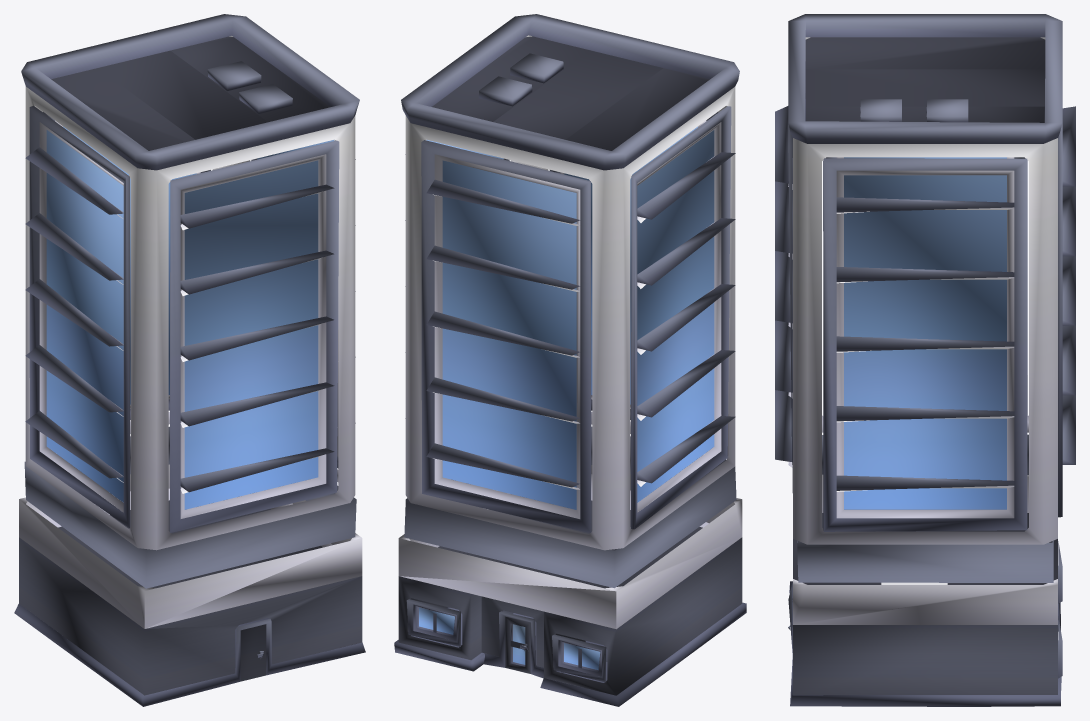
File: tower-sky-a-medium.glb
3 renders of one model, left to right at view 1: azimuth 30°, elevation 25°; view 2: azimuth 150°, elevation 25°; view 3: azimuth 270°, elevation 25°, orthographic. The views are drawn at different scales.
Parts seen in each view (by area): view 1: building-skyscraper-a baked; view 2: building-skyscraper-a baked; view 3: building-skyscraper-a baked.
Boxes of the visible parts, <box> form: building-skyscraper-a baked: <box>14,14,365,706</box>; building-skyscraper-a baked: <box>394,14,746,706</box>; building-skyscraper-a baked: <box>775,14,1075,706</box>.
Size of the model in its own units: 13.22 by 28 by 13.22.
Materials: 1 (1 with a texture image).
